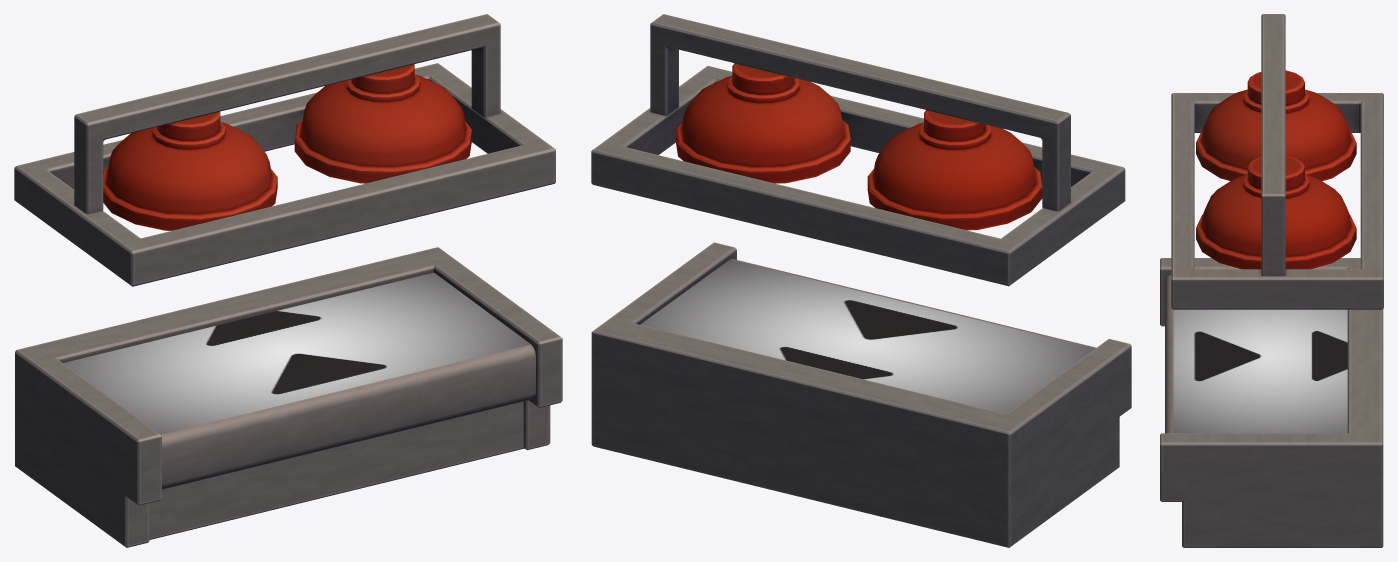
3 views of the same model, side by side, from view 1: azimuth 30°, elevation 25°; view 2: azimuth 150°, elevation 25°; view 3: azimuth 270°, elevation 25° (orthographic). The views are drawn at different scales.
Visible parts, largest first — view 1: delivery; view 2: delivery; view 3: delivery.
Part boxes in pixels (box(x1,y1,x2,y2)): delivery: box(14, 14, 562, 547); delivery: box(591, 14, 1131, 547); delivery: box(1160, 14, 1383, 547).
Size of the model in its own units: 4 by 3.52 by 2.03.
Materials: 1 (1 with a texture image).
